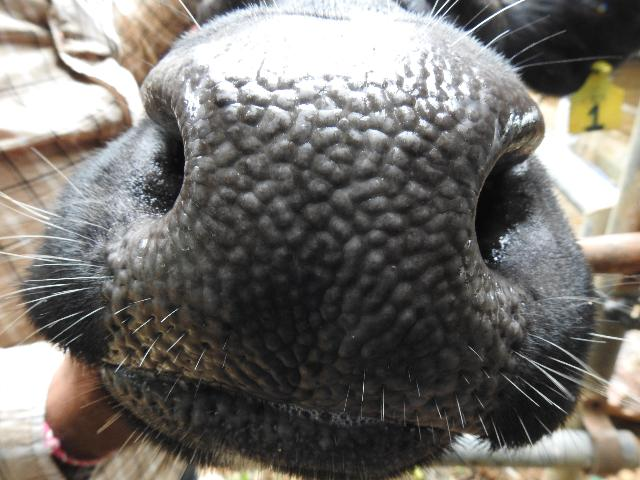Muzzle: (164, 44, 516, 416)
